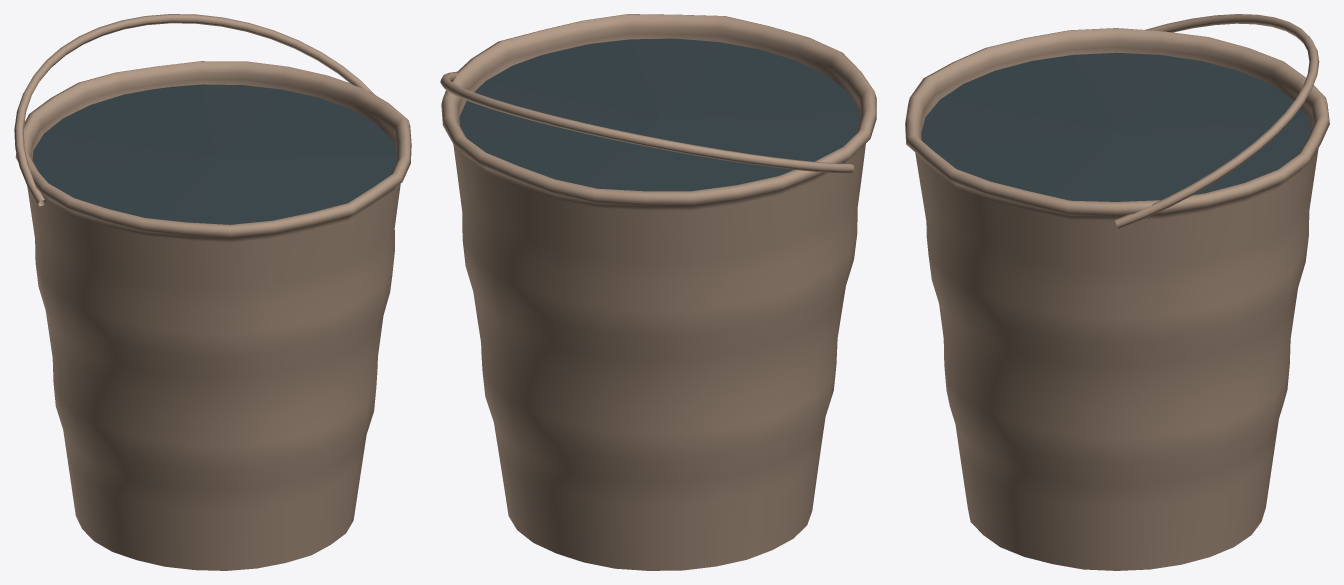
The model's file is WaterBucket.fbx.
The picture shows the model from 3 angles, left to right: view 1: azimuth 30°, elevation 25°; view 2: azimuth 150°, elevation 25°; view 3: azimuth 270°, elevation 25°; orthographic projection. The views are drawn at different scales.
Visible parts, largest first — view 1: WaterBucket; view 2: WaterBucket; view 3: WaterBucket.
Part boxes in pixels (x1,y1,x2,y2): WaterBucket: [14, 14, 411, 570]; WaterBucket: [440, 14, 876, 570]; WaterBucket: [905, 14, 1329, 570].
Bounding box in the file's own units: 30.7 × 34.92 × 29.91.
